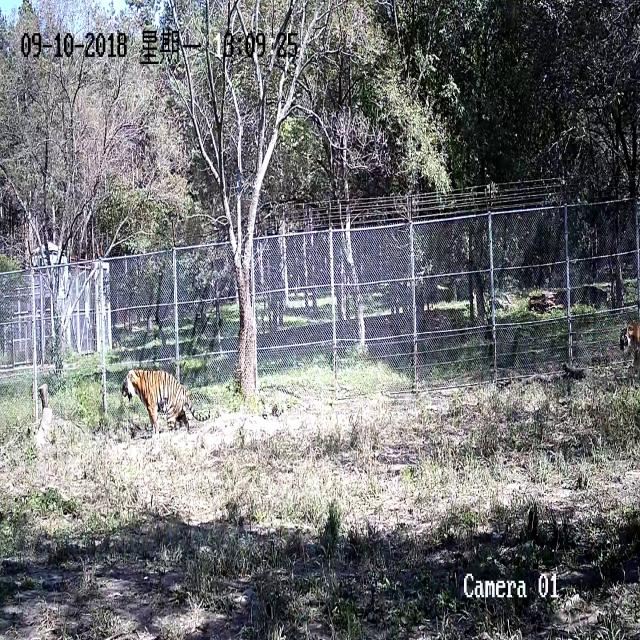Tiger: (88, 312, 228, 476)
